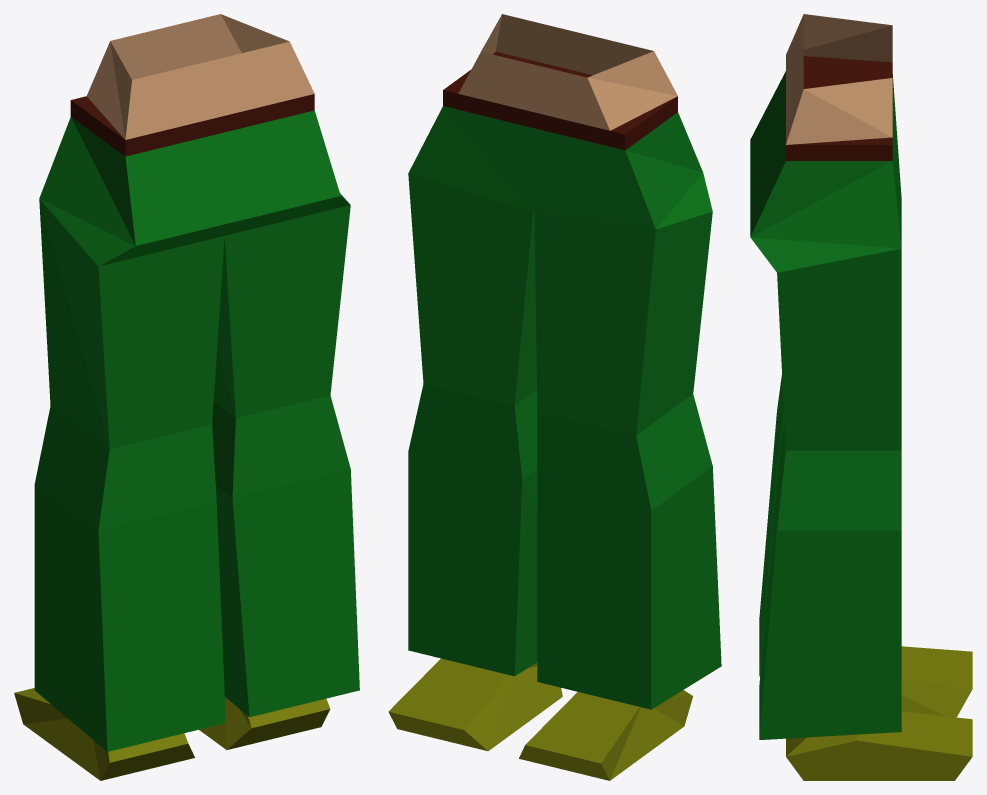
File: npc_world_wilough_1.obj
3 views of the same model, side by side, from view 1: azimuth 30°, elevation 25°; view 2: azimuth 150°, elevation 25°; view 3: azimuth 270°, elevation 25° (orthographic). The views are drawn at different scales.
Size of the model in its own units: 0.25 by 0.6562 by 0.1953.
